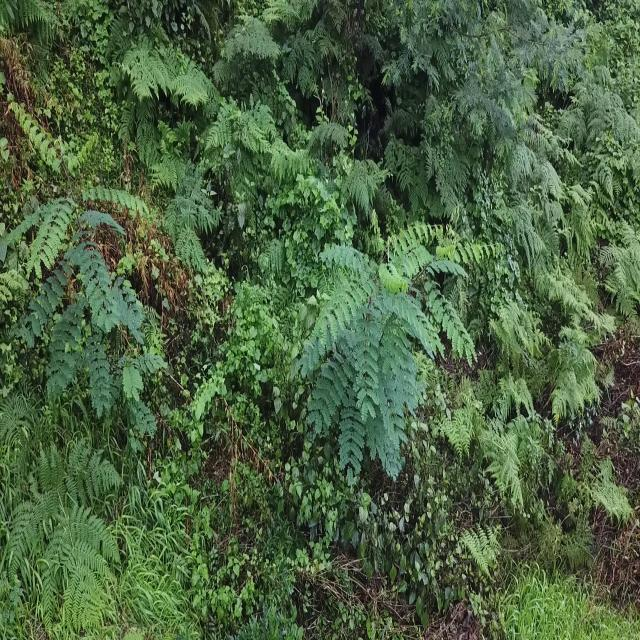Mysore-Thorn-Weed: (298, 190, 507, 483), (0, 82, 169, 440)
